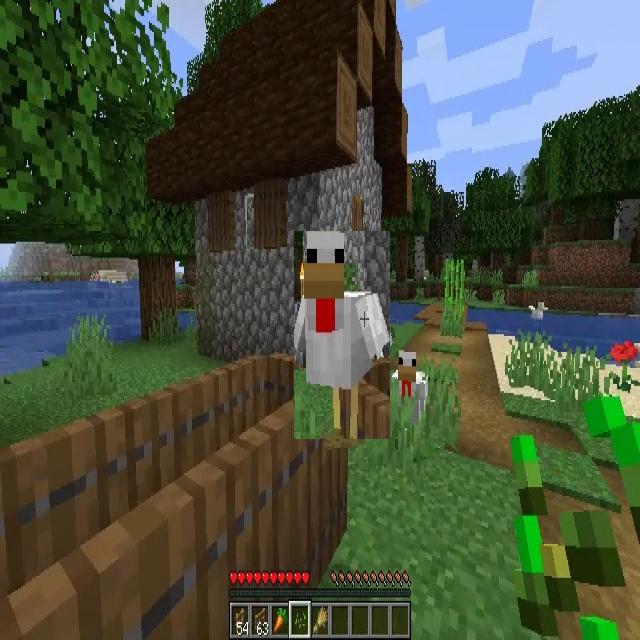duck: (294, 231, 390, 439), (390, 353, 427, 424), (527, 301, 549, 327)
